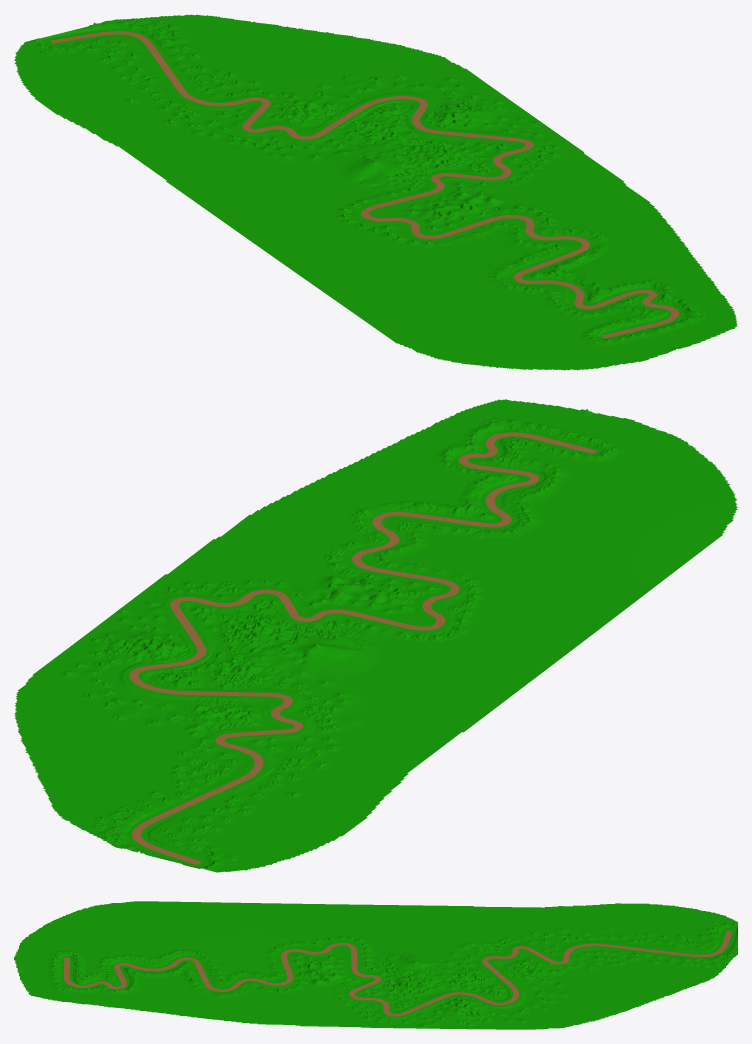
Rendered from Level2 1.fbx.
3 views of the same model, one above another, from view 1: azimuth 30°, elevation 25°; view 2: azimuth 150°, elevation 25°; view 3: azimuth 270°, elevation 25° (orthographic). The views are drawn at different scales.
Parts seen in each view (by area): view 1: Plane.001, Plane; view 2: Plane.001, Plane; view 3: Plane.001, Plane.
Boxes of the visible parts, <box> form: Plane.001: <box>14,14,737,370</box>; Plane: <box>50,31,679,338</box>; Plane.001: <box>14,399,737,872</box>; Plane: <box>129,432,596,864</box>; Plane.001: <box>14,901,737,1029</box>; Plane: <box>63,930,732,1016</box>.
Size of the model in its own units: 40759 by 1772 by 98518.
